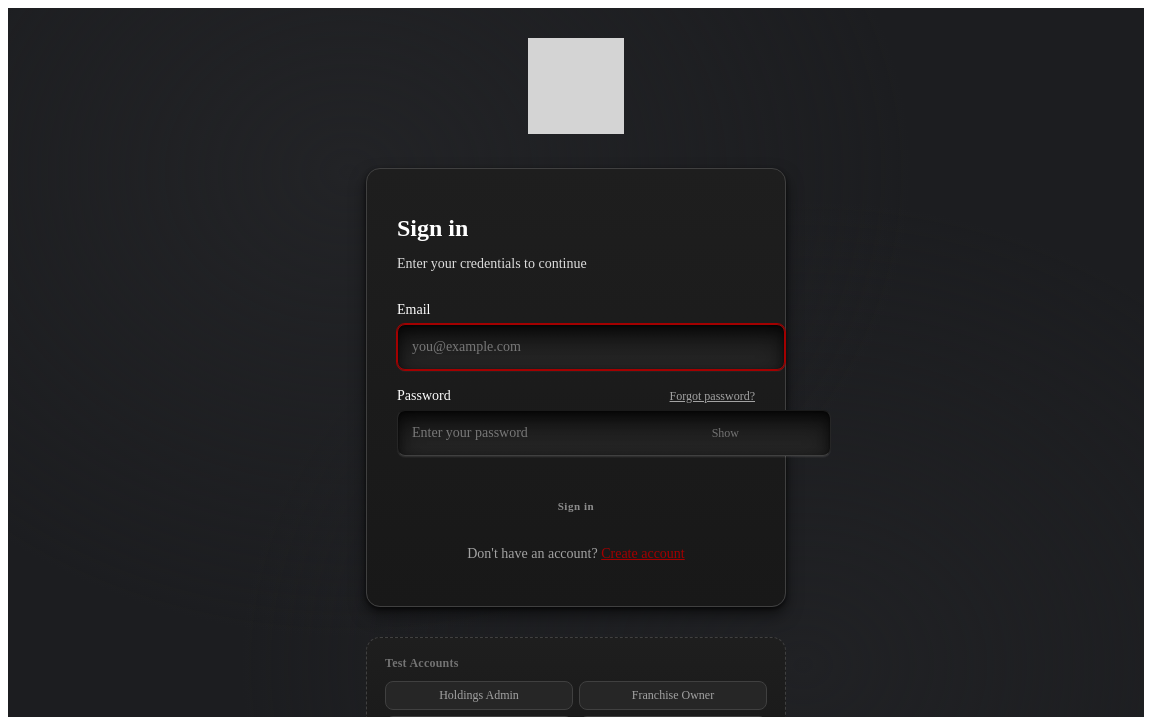
Test: submit button state › is enabled when both fields are filled
The width and height of the screenshot is (1152, 717).
In the field with placeholder "you@example.com": (591, 347) 397,324 -> 785,370, type "test@test.com"
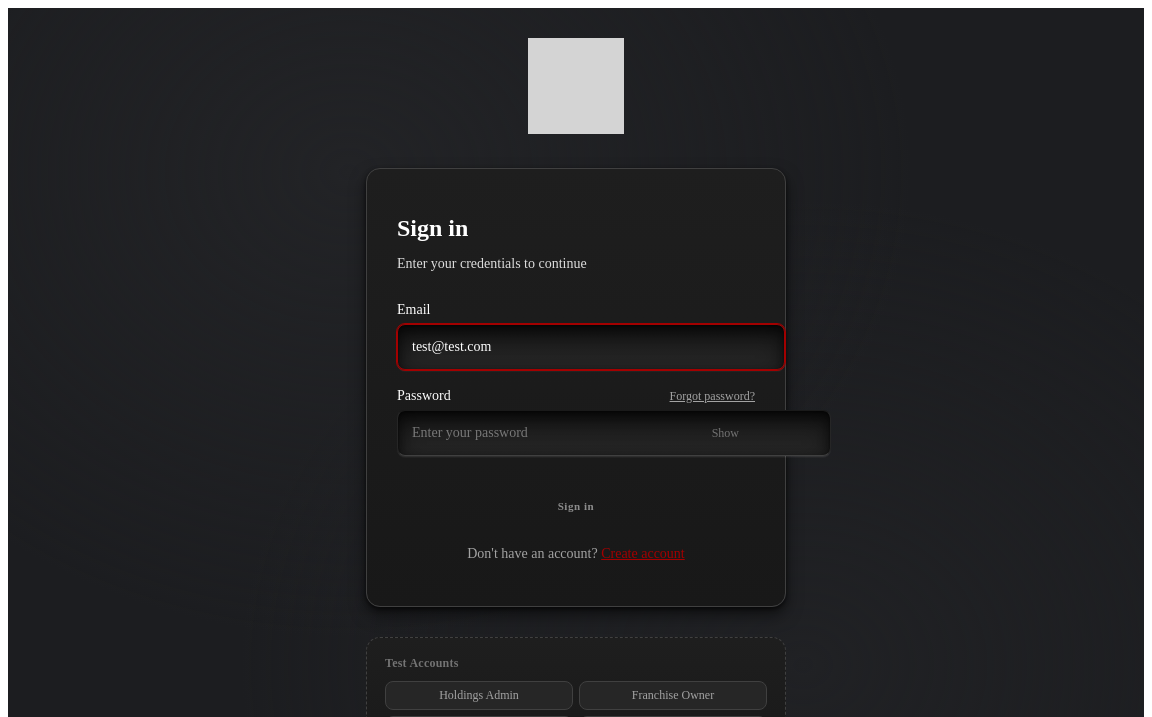
In the password field with placeholder "Enter your password": (614, 433) 397,410 -> 831,456, type "secret"
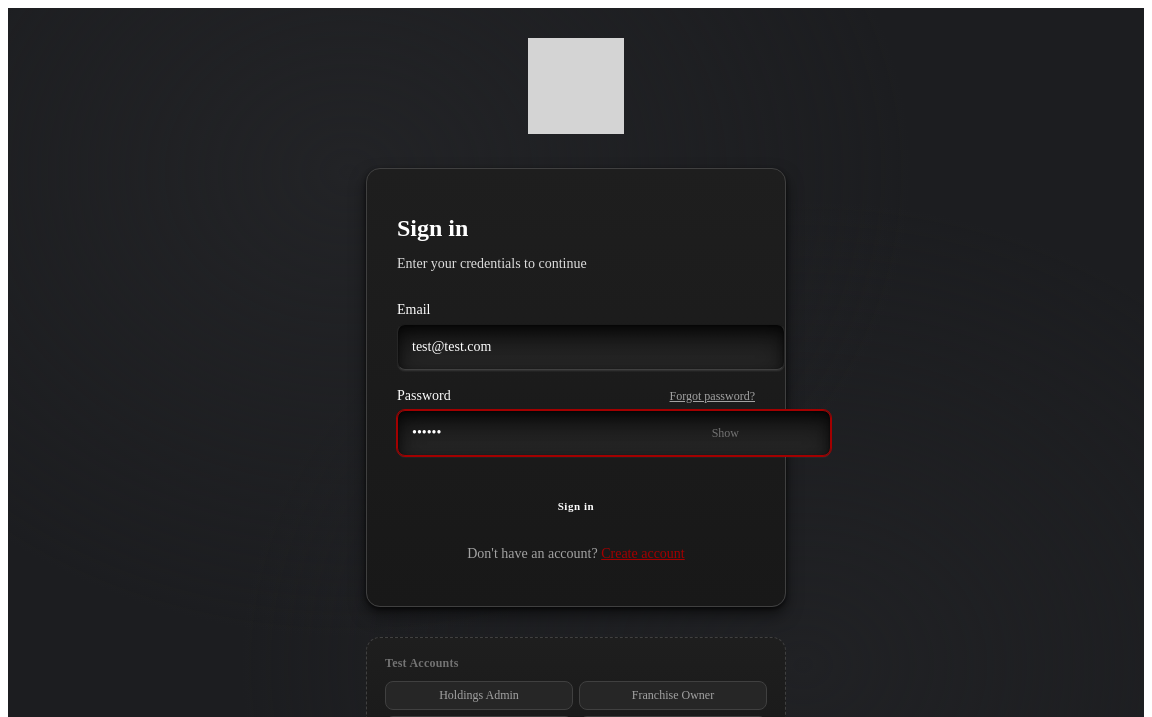
Expected: the button "Sign in" is enabled, 397,484 -> 755,528
